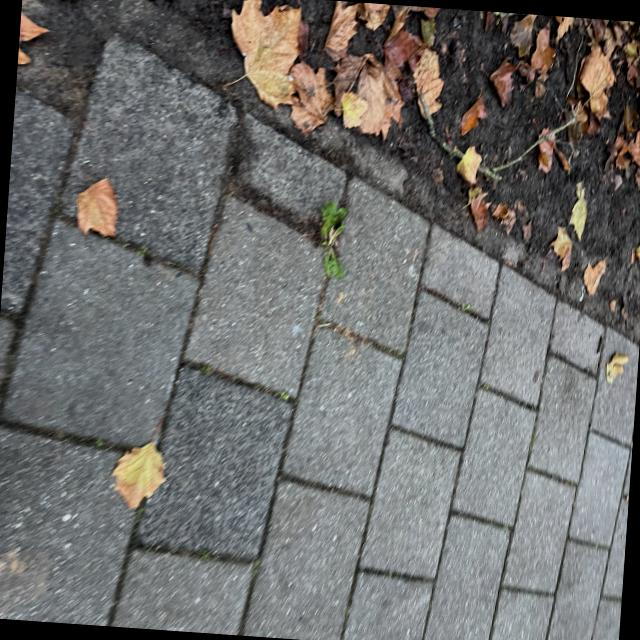leaves: (139, 0, 394, 629), (483, 629, 522, 640)
pavement: (417, 8, 640, 570), (363, 61, 453, 371), (305, 474, 432, 640)
weed: (302, 402, 368, 442)
